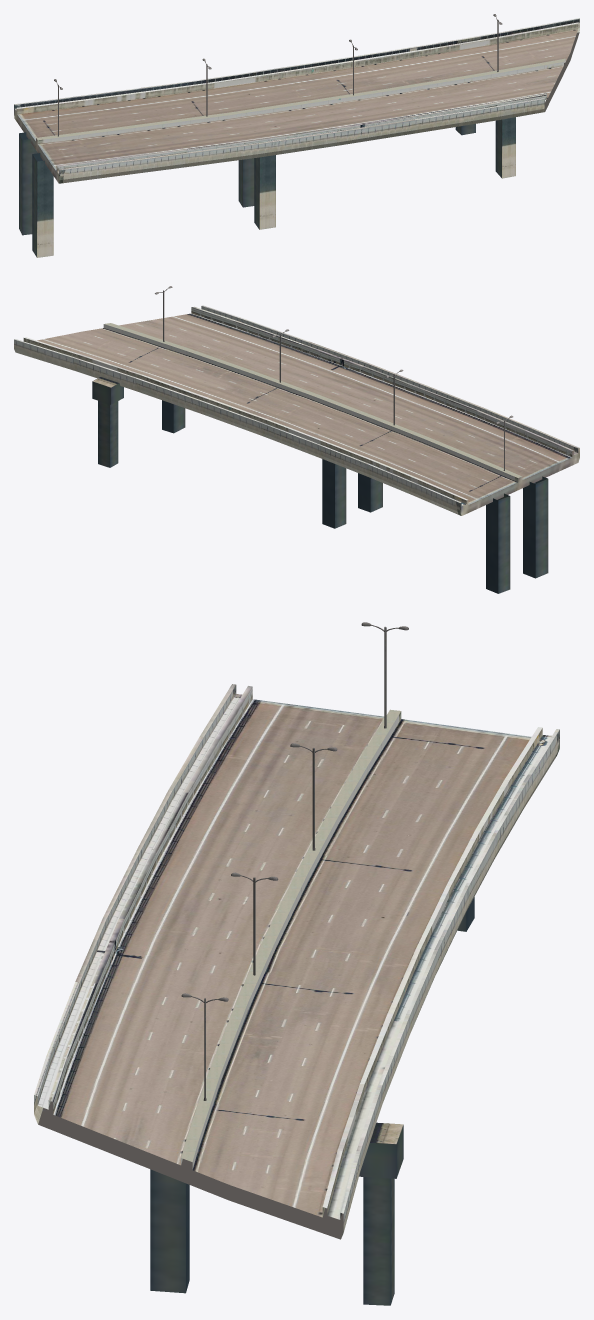
Rendered from roads_context_17.glb.
The picture shows the model from 3 angles, top to bottom: view 1: azimuth 30°, elevation 25°; view 2: azimuth 150°, elevation 25°; view 3: azimuth 270°, elevation 25°; orthographic projection. The views are drawn at different scales.
Parts seen in each view (by area): view 1: I105251699807063A0.001; view 2: I105251699807063A0.001; view 3: I105251699807063A0.001.
Part boxes in pixels (x1,y1,x2,y2): I105251699807063A0.001: (14, 14, 579, 257); I105251699807063A0.001: (14, 286, 579, 593); I105251699807063A0.001: (34, 622, 559, 1305).
Bounding box in the file's own units: 131 × 36.65 × 55.54.
3 materials, 3 textured.
